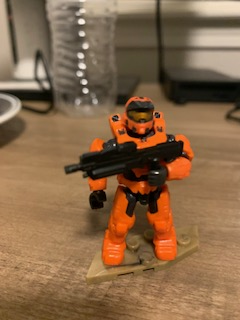rifle: (63, 140, 189, 184)
spartan: (86, 94, 184, 264)
